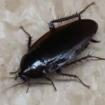cockroach: (15, 17, 98, 82)
